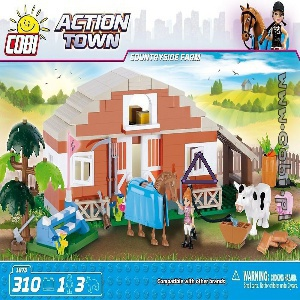triangle: (179, 149, 221, 187)
